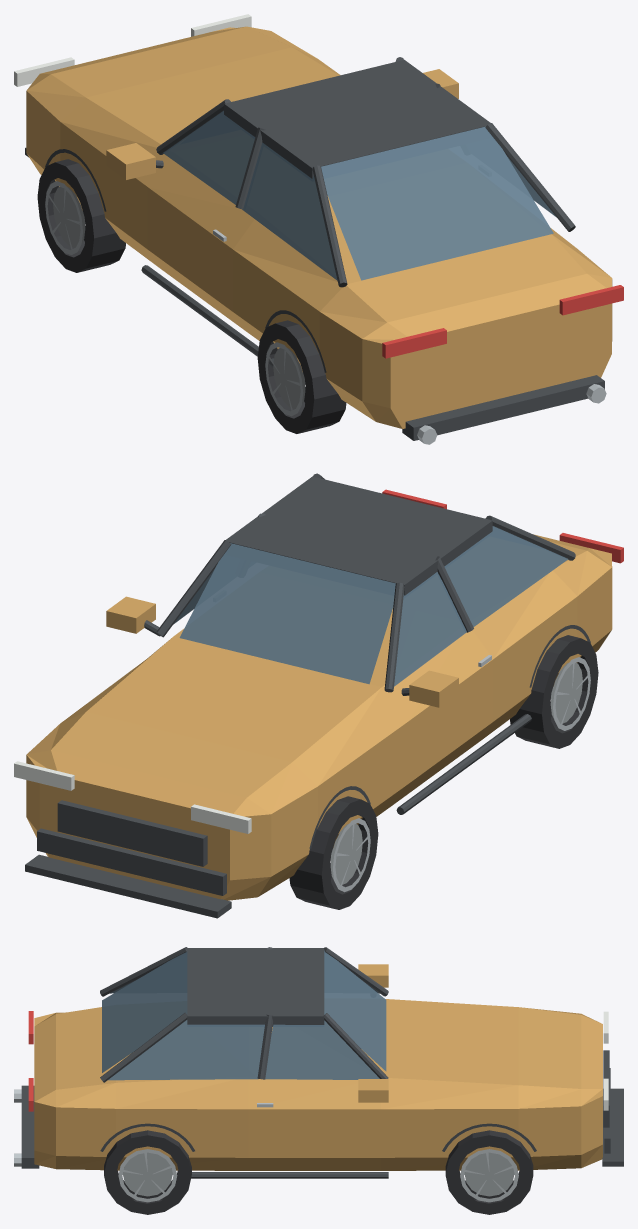
Rendered from valley_wagon.glb.
The picture shows the model from 3 angles, top to bottom: view 1: azimuth 30°, elevation 25°; view 2: azimuth 150°, elevation 25°; view 3: azimuth 270°, elevation 25°; orthographic projection. The views are drawn at different scales.
Parts seen in each view (by area): view 1: Body_Shell, Backlight, Roof_Frame, Quarter_Glass_L, Tire_RL, Tire_FL, Door_Glass_L, Rear_Diffuser, Mirror_Cap_L, Side_Sill_L, Pillar_C_R, Brake_RL (+10 smaller); view 2: Body_Shell, Windshield, Roof_Frame, Quarter_Glass_L, Tire_FL, Front_Grille, Tire_RL, Lower_Intake, Door_Glass_L, Splitter, Side_Sill_L, Mirror_Cap_L (+12 smaller); view 3: Body_Shell, Roof_Frame, Quarter_Glass_R, Backlight, Door_Glass_R, Windshield, Tire_FR, Tire_RR, Brake_FR, Brake_RR, Side_Sill_R, Splitter (+11 smaller).
Part boxes in pixels (x1,y1,x2,y2): Body_Shell: [26, 26, 612, 428]; Backlight: [321, 126, 553, 280]; Roof_Frame: [224, 60, 490, 178]; Quarter_Glass_L: [242, 142, 337, 280]; Tire_RL: [257, 320, 346, 433]; Tire_FL: [37, 159, 125, 272]; Door_Glass_L: [163, 111, 255, 204]; Rear_Diffuser: [402, 375, 604, 440]; Mirror_Cap_L: [106, 143, 155, 179]; Side_Sill_L: [141, 265, 273, 367]; Pillar_C_R: [485, 123, 575, 231]; Brake_RL: [273, 348, 305, 409]; Body_Shell: [26, 534, 612, 900]; Windshield: [179, 543, 395, 684]; Roof_Frame: [226, 476, 492, 595]; Quarter_Glass_L: [444, 526, 568, 626]; Tire_FL: [289, 796, 378, 909]; Front_Grille: [57, 800, 207, 866]; Tire_RL: [510, 635, 598, 748]; Lower_Intake: [37, 828, 226, 895]; Door_Glass_L: [394, 572, 466, 686]; Splitter: [25, 854, 231, 918]; Side_Sill_L: [396, 714, 531, 814]; Mirror_Cap_L: [409, 670, 458, 707]; Body_Shell: [34, 999, 602, 1170]; Roof_Frame: [187, 948, 324, 1026]; Quarter_Glass_R: [108, 1020, 264, 1080]; Backlight: [102, 951, 187, 1072]; Door_Glass_R: [265, 1020, 379, 1079]; Windshield: [324, 950, 386, 1071]; Tire_FR: [445, 1130, 533, 1214]; Tire_RR: [104, 1130, 191, 1214]; Brake_FR: [464, 1152, 514, 1196]; Brake_RR: [123, 1152, 172, 1196]; Side_Sill_R: [191, 1172, 388, 1178]; Splitter: [602, 1088, 623, 1166].
Bounding box in the file's own units: 2.34 × 1.57 × 4.79.
